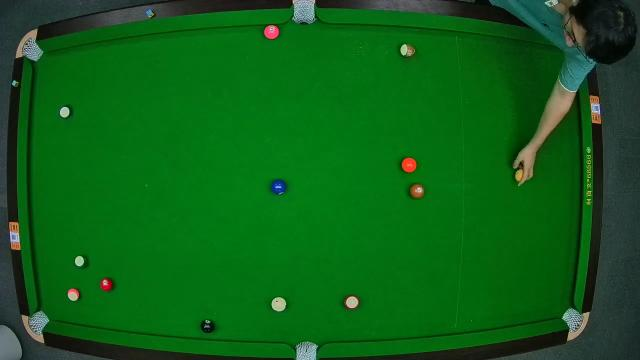bag1: (20, 38, 40, 60)
bag2: (294, 1, 316, 25)
bag4: (28, 310, 48, 334)
bag5: (294, 340, 318, 360)
bag6: (562, 310, 584, 330)
ball0: (272, 297, 288, 311)
ball1: (516, 168, 528, 182)
ball10: (59, 105, 73, 119)
ball11: (344, 293, 360, 309)
ball12: (67, 286, 81, 302)
ball14: (73, 254, 87, 268)
ball15: (398, 43, 416, 58)
ball2: (270, 179, 288, 195)
ball3: (99, 277, 113, 291)
ball4: (264, 24, 280, 40)
ball5: (402, 157, 418, 173)
ball7: (408, 182, 424, 198)
ball8: (200, 318, 216, 334)
